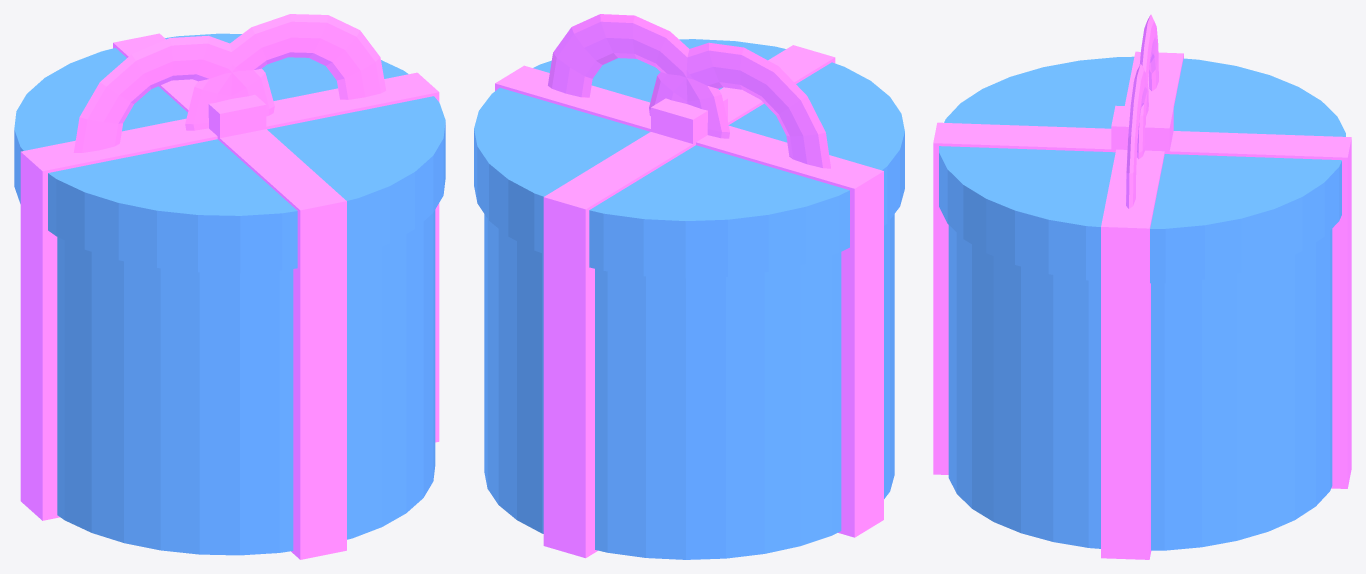
File: Tmpl_Round_Root_199.glb
3 renders of one model, left to right at view 1: azimuth 30°, elevation 25°; view 2: azimuth 150°, elevation 25°; view 3: azimuth 270°, elevation 25°, orthographic. The views are drawn at different scales.
Visible parts, largest first — view 1: Tmpl_Round_Base.197, Tmpl_Round_Lid.197, Tmpl_Round_Ribbon_Y.197, Tmpl_Round_Ribbon_X.197, Tmpl_Round_BowR.197, Tmpl_Round_BowL.197, Tmpl_Round_BowKnot.197; view 2: Tmpl_Round_Base.197, Tmpl_Round_Lid.197, Tmpl_Round_Ribbon_Y.197, Tmpl_Round_Ribbon_X.197, Tmpl_Round_BowR.197, Tmpl_Round_BowL.197, Tmpl_Round_BowKnot.197; view 3: Tmpl_Round_Base.197, Tmpl_Round_Lid.197, Tmpl_Round_Ribbon_X.197, Tmpl_Round_Ribbon_Y.197, Tmpl_Round_BowKnot.197, Tmpl_Round_BowR.197, Tmpl_Round_BowL.197.
Part boxes in pixels (x1,y1,x2,y2): Tmpl_Round_Base.197: [57, 210, 435, 555]; Tmpl_Round_Lid.197: [14, 33, 445, 273]; Tmpl_Round_Ribbon_Y.197: [113, 33, 346, 559]; Tmpl_Round_Ribbon_X.197: [20, 72, 439, 520]; Tmpl_Round_BowR.197: [185, 14, 385, 130]; Tmpl_Round_BowL.197: [73, 35, 274, 152]; Tmpl_Round_BowKnot.197: [208, 94, 266, 140]; Tmpl_Round_Base.197: [484, 214, 894, 559]; Tmpl_Round_Lid.197: [474, 39, 904, 278]; Tmpl_Round_Ribbon_Y.197: [543, 45, 835, 558]; Tmpl_Round_Ribbon_X.197: [495, 65, 883, 537]; Tmpl_Round_BowR.197: [548, 14, 729, 138]; Tmpl_Round_BowL.197: [649, 42, 830, 168]; Tmpl_Round_BowKnot.197: [651, 97, 727, 145]; Tmpl_Round_Base.197: [948, 225, 1332, 550]; Tmpl_Round_Lid.197: [939, 56, 1345, 283]; Tmpl_Round_Ribbon_X.197: [1101, 51, 1183, 559]; Tmpl_Round_Ribbon_Y.197: [933, 122, 1351, 488]; Tmpl_Round_BowKnot.197: [1111, 105, 1173, 153]; Tmpl_Round_BowR.197: [1126, 64, 1148, 208]; Tmpl_Round_BowL.197: [1137, 14, 1158, 159].
Bounding box in the file's own units: 0.8842 × 0.9844 × 0.8842.
